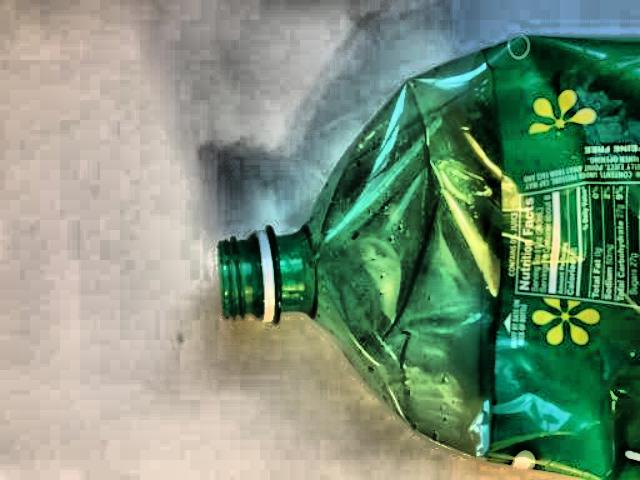Bottles: (107, 10, 638, 480)
